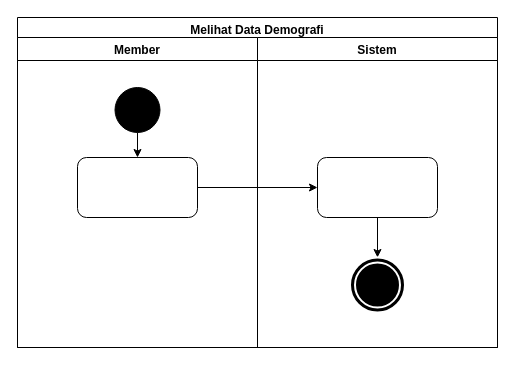
This 515x365 diagram has some shape labels left out. The shapes that lost their labels are listed below. From the top down, each one's centre as x and y in pixels, then its label:
(x=137, y=187): Membuka halaman demografi
(x=377, y=187): Menampilkan data demografi
